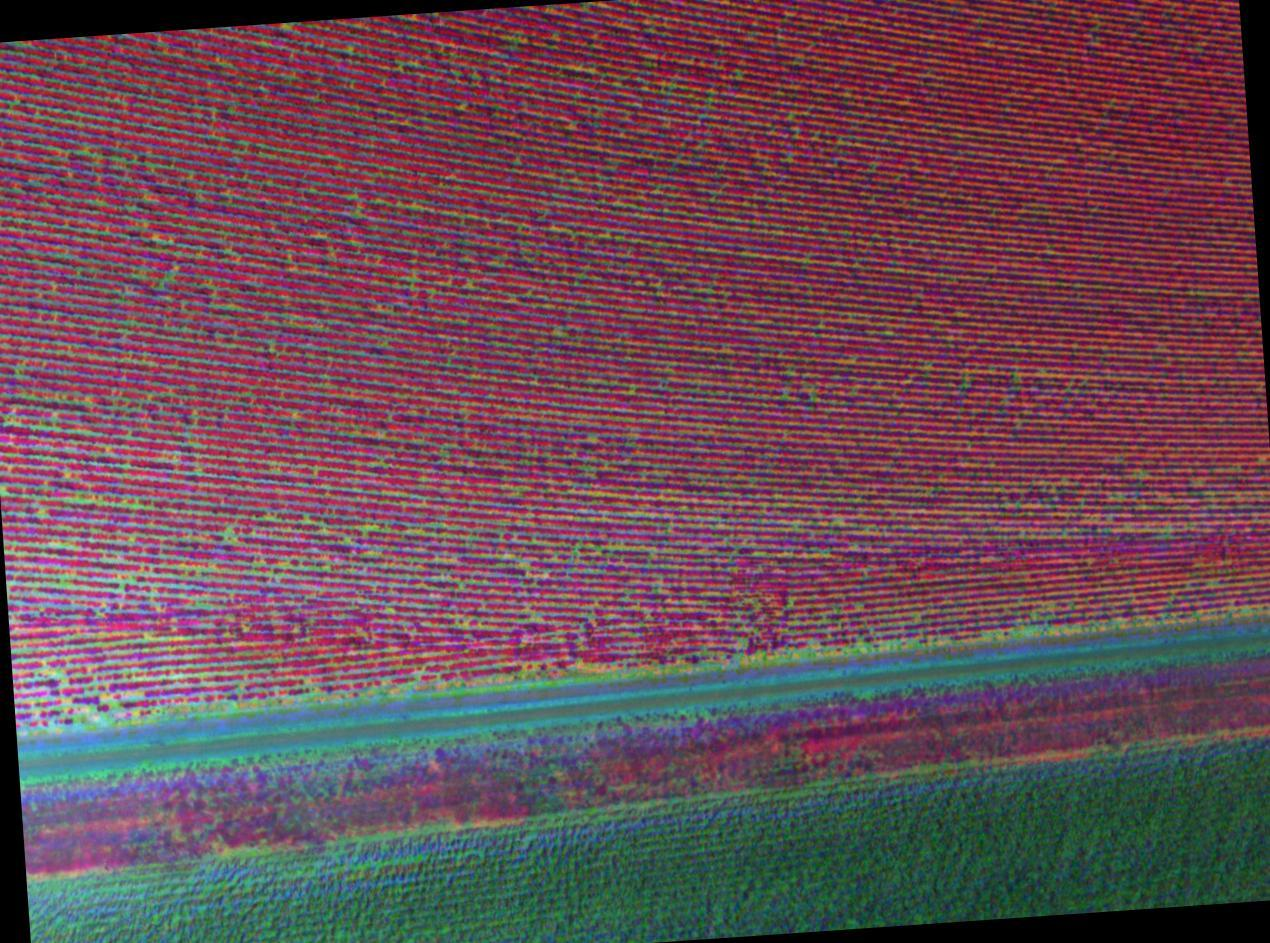dc: (306, 679, 311, 686), (1, 490, 5, 496), (283, 564, 289, 568), (146, 635, 150, 640), (743, 641, 747, 646), (363, 527, 367, 531), (422, 478, 426, 481), (556, 326, 559, 329)
